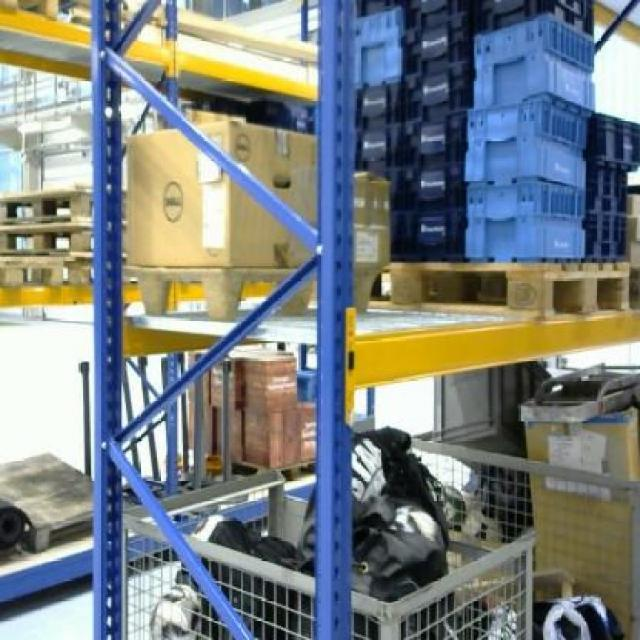box: (128, 120, 320, 265), (526, 418, 640, 588), (352, 173, 392, 267)
